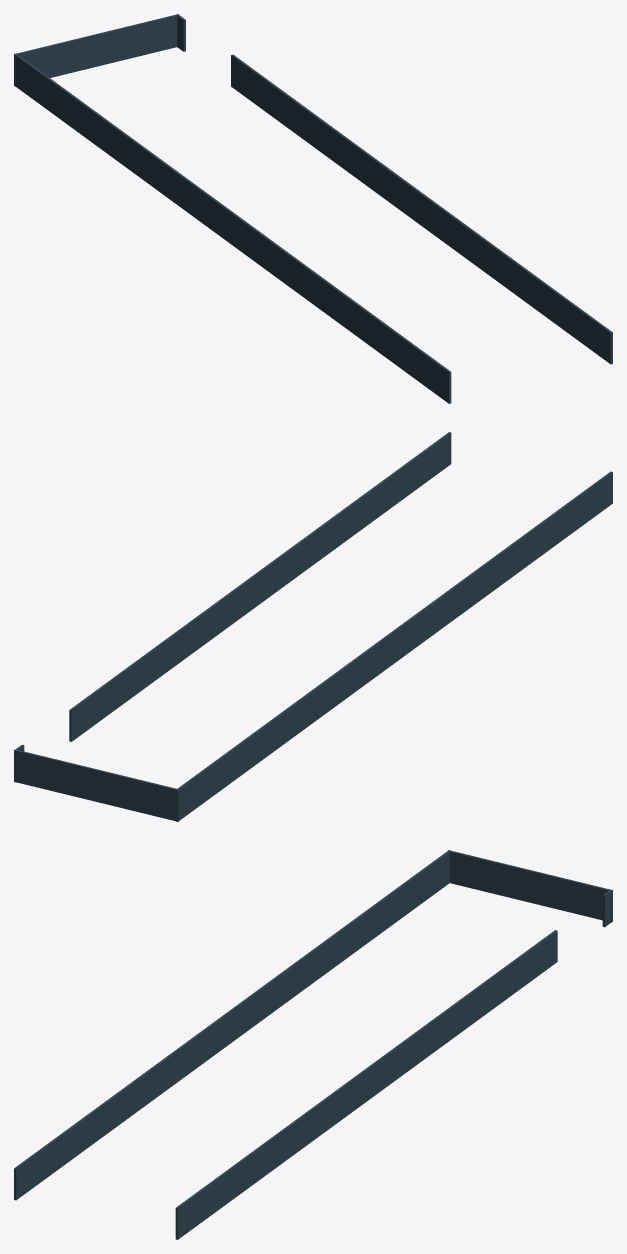
The model's file is v02-04-04-steel.glb.
3 views of the same model, one above another, from view 1: azimuth 30°, elevation 25°; view 2: azimuth 150°, elevation 25°; view 3: azimuth 330°, elevation 25° (orthographic).
Visible parts, largest first — view 1: v02-04-04-steel; view 2: v02-04-04-steel; view 3: v02-04-04-steel.
Part boxes in pixels (box(x1,y1,x2,y2)): v02-04-04-steel: box(14, 14, 612, 403); v02-04-04-steel: box(14, 432, 612, 821); v02-04-04-steel: box(14, 850, 612, 1239).
Size of the model in its own units: 6 by 1.1 by 27.5.
